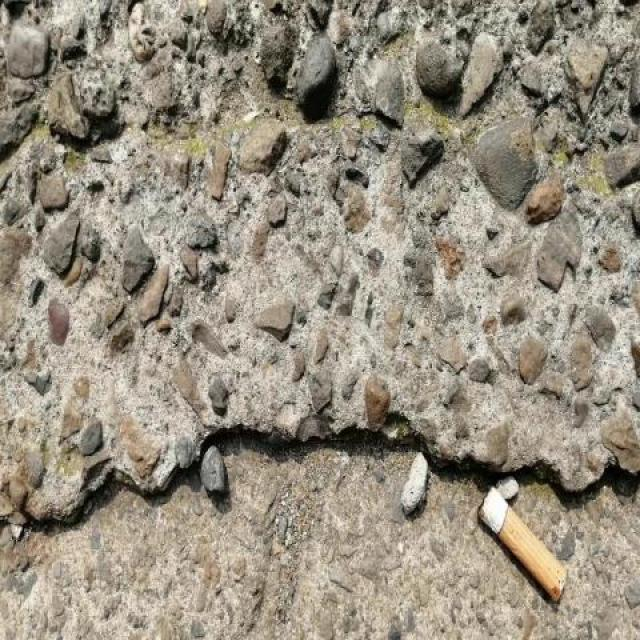non-organic waste: (473, 481, 570, 606)
